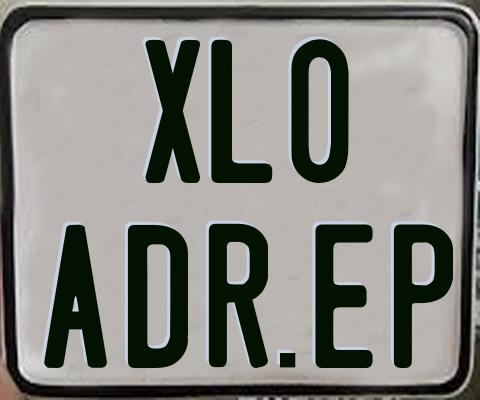0: (288, 36, 346, 184)
A: (44, 223, 113, 366)
D: (125, 225, 191, 373)
E: (313, 221, 372, 368)
L: (211, 37, 278, 180)
P: (394, 224, 457, 368)
R: (207, 221, 271, 369)
X: (145, 37, 205, 180)
